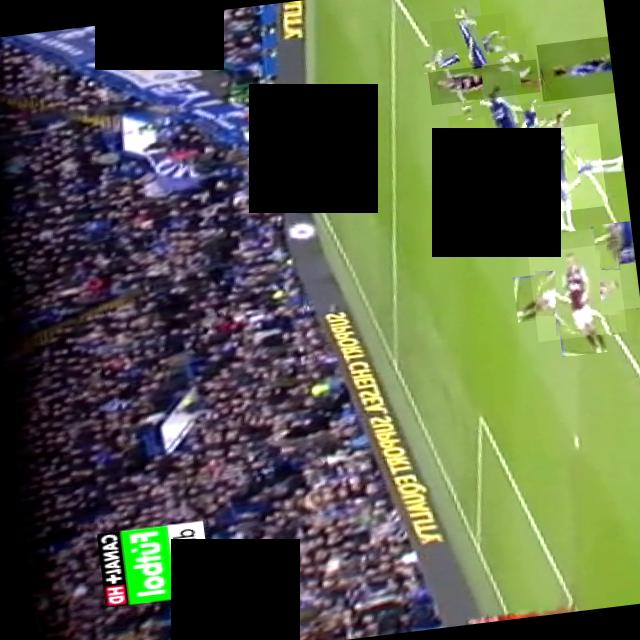soccer-player: (526, 242, 626, 342), (460, 82, 553, 175), (513, 122, 606, 215), (428, 12, 512, 98), (426, 59, 538, 105), (536, 36, 614, 101), (590, 222, 636, 266)
